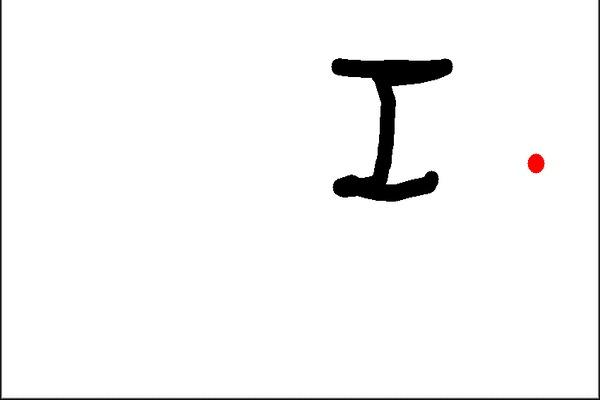i: (323, 42, 458, 222)
